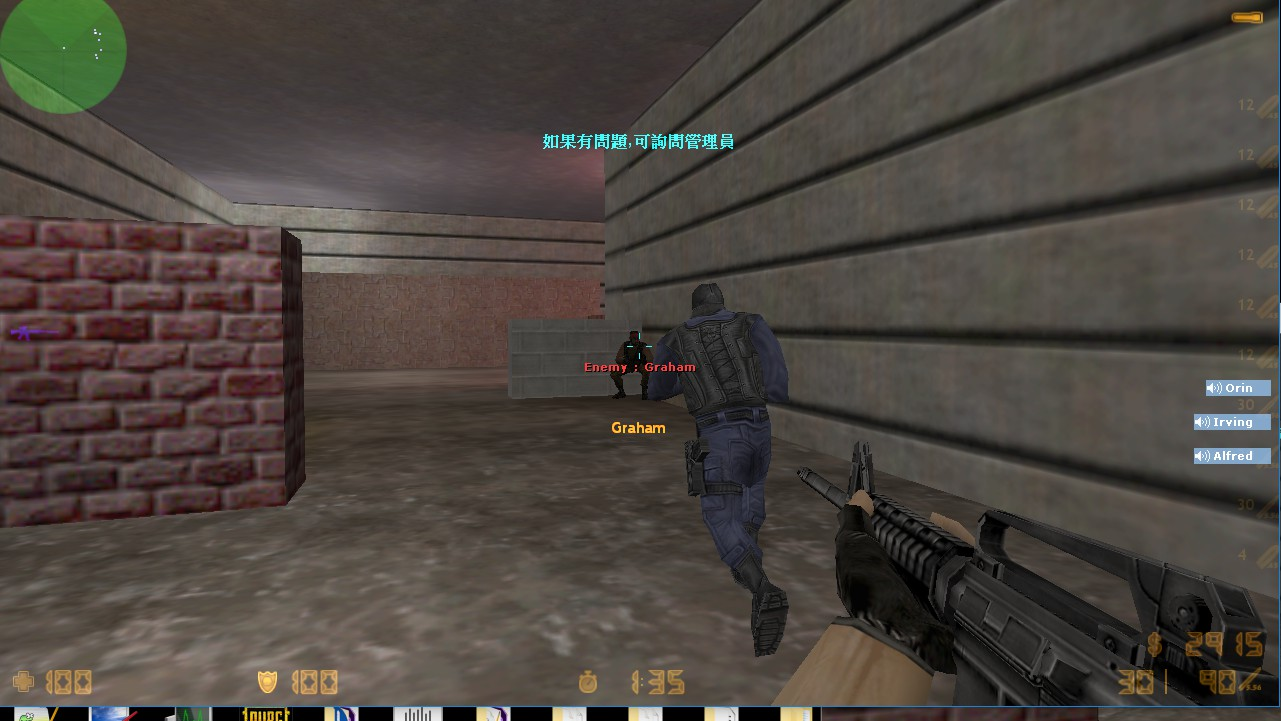person: (659, 289, 801, 655), (607, 326, 656, 399)
